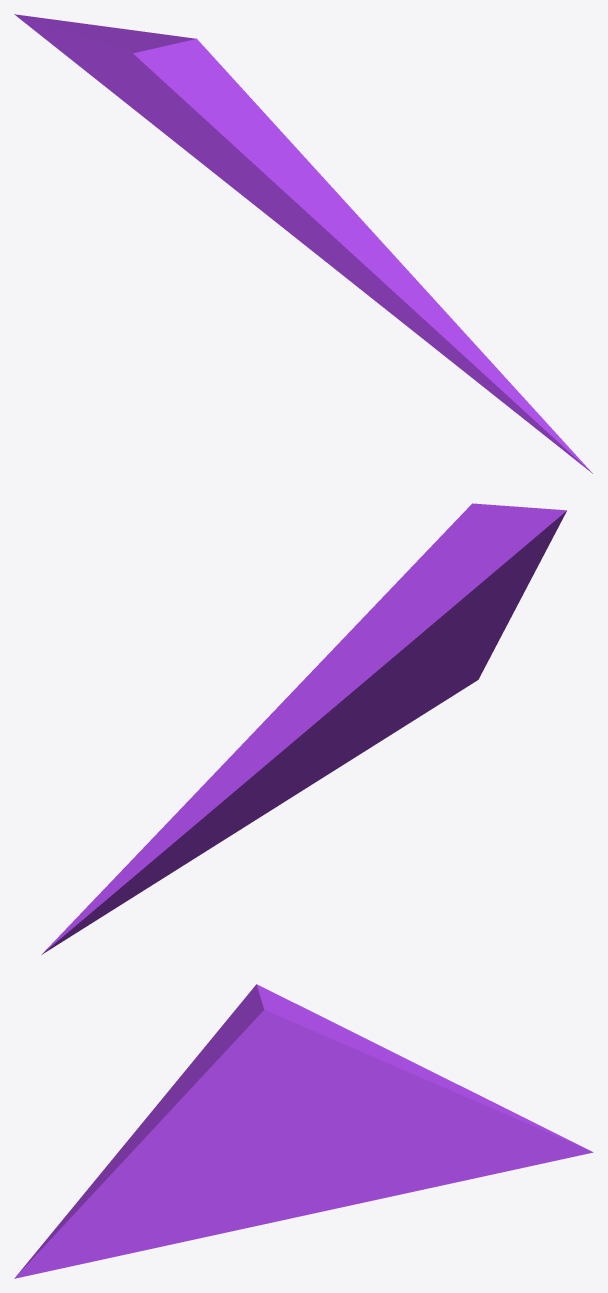
File: Window_120_2_chunks.fbx
3 renders of one model, top to bottom at view 1: azimuth 30°, elevation 25°; view 2: azimuth 150°, elevation 25°; view 3: azimuth 270°, elevation 25°, orthographic. The views are drawn at different scales.
Parts seen in each view (by area): view 1: Window_120_2_2, Window_120_2_0, Window_120_2_1, Window_120_2_3; view 2: Window_120_2_1, Window_120_2_0, Window_120_2_2, Window_120_2_3; view 3: Window_120_2_1, Window_120_2_2, Window_120_2_0, Window_120_2_3.
Boxes of the visible parts, x1,y1,x2,y2 form: Window_120_2_2: [218, 140, 592, 473]; Window_120_2_0: [101, 32, 289, 148]; Window_120_2_1: [14, 14, 243, 195]; Window_120_2_3: [238, 171, 389, 312]; Window_120_2_1: [41, 623, 426, 954]; Window_120_2_0: [358, 503, 566, 663]; Window_120_2_2: [326, 549, 546, 775]; Window_120_2_3: [215, 698, 379, 845]; Window_120_2_1: [297, 1029, 593, 1202]; Window_120_2_2: [14, 1051, 265, 1278]; Window_120_2_0: [201, 984, 351, 1103]; Window_120_2_3: [216, 1100, 364, 1234].
Size of the model in its own units: 195 by 240 by 590.
